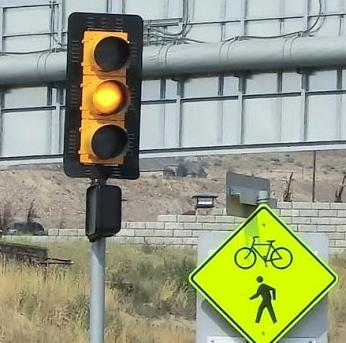yellow_light: (63, 12, 144, 180)
